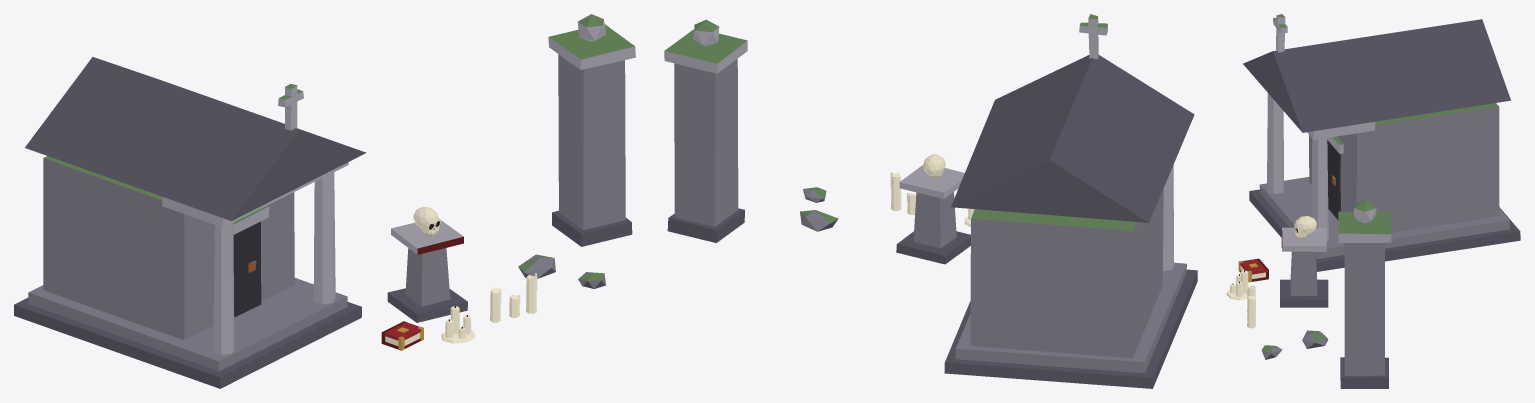
Rendered from sample_kit_small.glb.
The picture shows the model from 3 angles, left to right: view 1: azimuth 30°, elevation 25°; view 2: azimuth 150°, elevation 25°; view 3: azimuth 270°, elevation 25°; orthographic projection. The views are drawn at different scales.
Parts seen in each view (by area): view 1: Crypt, GatePillar, Pedestal, Book, Candles, Rock_A, Skull; view 2: Crypt, GatePillar, Pedestal, Rock_A; view 3: Crypt, GatePillar, Pedestal, Book, Candles, Skull, Rock_A, Candle2.
Boxes of the visible parts, left/top/right/bottom form: Crypt: left=14, top=57, right=366, bottom=388; GatePillar: left=548, top=14, right=635, bottom=246; Pedestal: left=387, top=219, right=467, bottom=322; Book: left=381, top=321, right=423, bottom=350; Candles: left=441, top=306, right=474, bottom=343; Rock_A: left=518, top=254, right=555, bottom=278; Skull: left=413, top=206, right=440, bottom=236; Crypt: left=944, top=14, right=1197, bottom=388; GatePillar: left=664, top=19, right=747, bottom=242; Pedestal: left=896, top=165, right=970, bottom=264; Rock_A: left=800, top=210, right=838, bottom=231; Crypt: left=1243, top=14, right=1520, bottom=271; GatePillar: left=1338, top=200, right=1391, bottom=388; Pedestal: left=1280, top=227, right=1328, bottom=307; Book: left=1238, top=258, right=1268, bottom=282; Candles: left=1226, top=270, right=1248, bottom=300; Skull: left=1294, top=216, right=1316, bottom=239; Rock_A: left=1302, top=330, right=1328, bottom=348; Candle2: left=1247, top=296, right=1255, bottom=328.
Size of the model in its own units: 25.92 by 12.08 by 14.56.
1 material, 1 textured.
